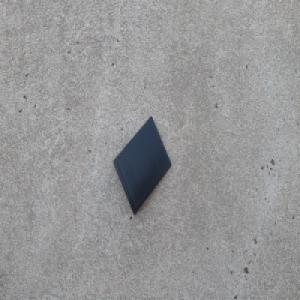PlasticPart: (112, 114, 171, 215)
